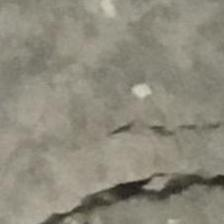Crack: (5, 134, 224, 224)
